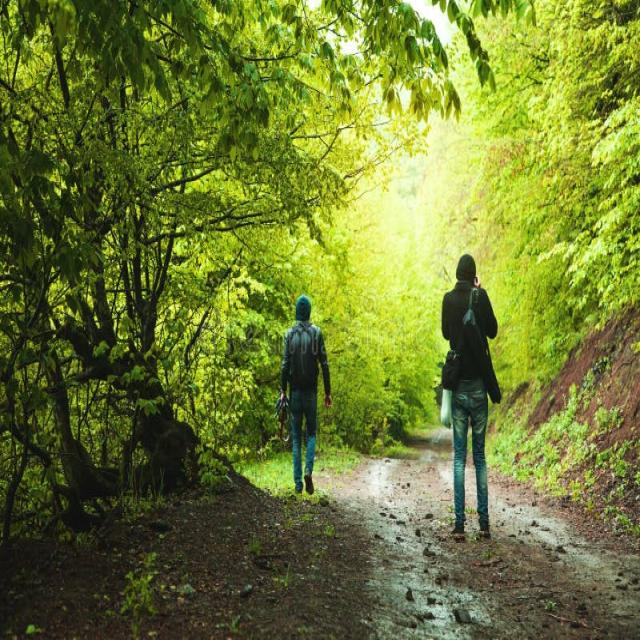Forest: (1, 0, 640, 640)
Militant: (431, 241, 520, 554), (256, 270, 358, 527)
